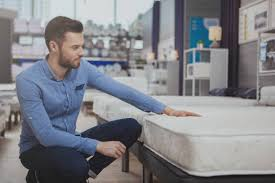bed-matress: (93, 92, 275, 177)
